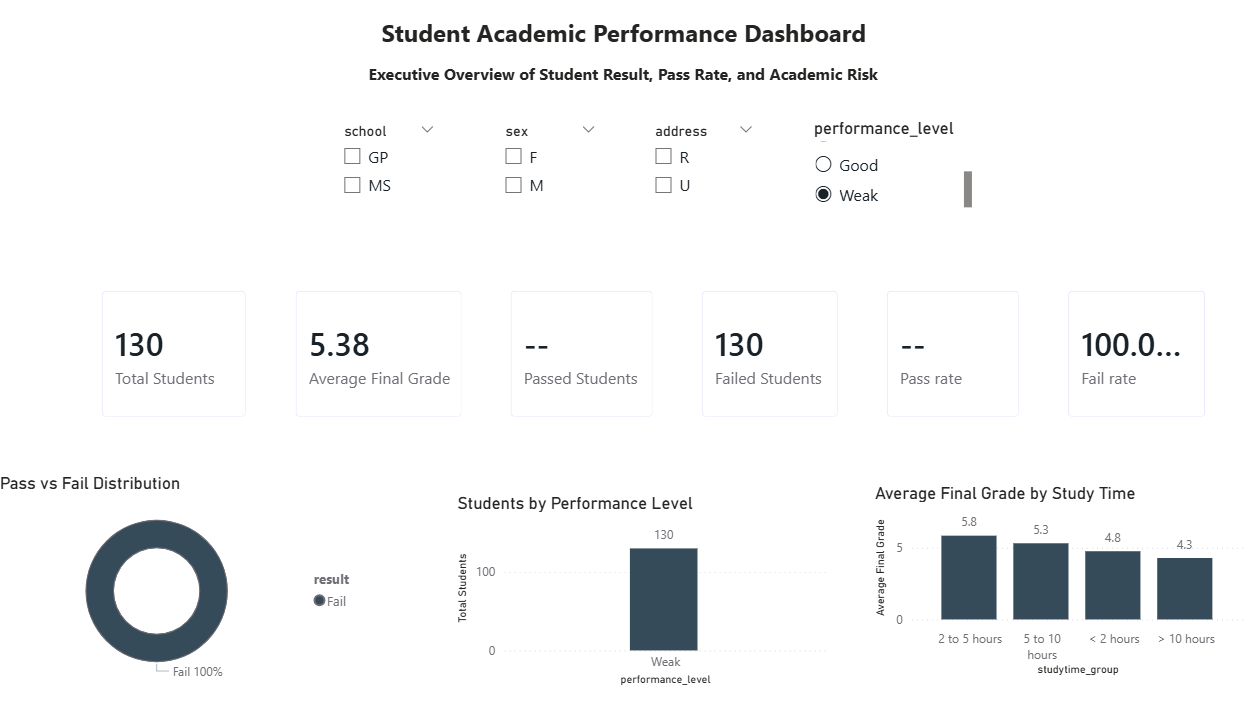

The page's visual inventory and layout, read from the dashboard file:
{"tool":"powerbi","page":{"name":"Executive Overview","canvas":[1280,720],"ordinal":0},"visuals":[{"type":"cardVisual","fields":{"Data":["vw_student_analysis.Total Students"]},"box":[90,280,178.8,160],"z":0,"group":"g1"},{"type":"cardVisual","fields":{"Data":["vw_student_analysis.Average Final Grade"]},"box":[283.8,280,200,160],"z":1000,"group":"g1"},{"type":"cardVisual","fields":{"Data":["vw_student_analysis.Passed Student"]},"box":[498.8,280,176.2,160],"z":2000,"group":"g1"},{"type":"cardVisual","fields":{"Data":["vw_student_analysis.Failed Student"]},"box":[690,280,170,160],"z":3000,"group":"g1"},{"type":"cardVisual","fields":{"Data":["vw_student_analysis.Pass rate"]},"box":[875,280,166.2,160],"z":4000,"group":"g1"},{"type":"cardVisual","fields":{"Data":["vw_student_analysis.Fail rate"]},"box":[1056.2,280,171.2,160],"z":5000,"group":"g1"},{"type":"textbox","box":[214.7,0,827.6,82],"z":6000},{"type":"textbox","box":[161.7,63.9,933.8,35],"z":7000},{"type":"donutChart","title":"Pass vs Fail Distribution","fields":{"Category":["vw_student_analysis.result"],"Y":["vw_student_analysis.Total Students"]},"box":[0,478.8,378.8,217.5],"z":8000},{"type":"columnChart","title":"Students by Performance Level","fields":{"Category":["vw_student_analysis.performance_level"],"Y":["vw_student_analysis.Total Students"]},"box":[457.5,498.8,378.8,197.5],"z":9000},{"type":"columnChart","title":"Average Final Grade by Study Time","fields":{"Category":["vw_student_analysis.studytime_group"],"Y":["vw_student_analysis.Average Final Grade"]},"box":[875,488.8,378.8,197.5],"z":10000},{"type":"slicer","fields":{"Values":["vw_student_analysis.school"]},"box":[336.2,123.8,115,95],"z":11000},{"type":"slicer","fields":{"Values":["vw_student_analysis.sex"]},"box":[497.5,123.8,115,95],"z":12000},{"type":"slicer","fields":{"Values":["vw_student_analysis.address"]},"box":[647.5,123.8,122.5,95],"z":13000},{"type":"listSlicer","fields":{"Values":["vw_student_analysis.performance_level"]},"box":[813.8,123.8,168.8,95],"z":14000},{"type":"group","id":"g1","title":"Groupe 1","box":[90,280,1137.5,160],"z":14001}]}

Visuals, with their boxes in screenshot pixels (x1, y1, x2, y2), scaled from the page's 1280x720 canvas onto the 1254x707 screenshot:
cardVisual - vw_student_analysis.Total Students: (88, 275, 263, 432)
cardVisual - vw_student_analysis.Average Final Grade: (278, 275, 474, 432)
cardVisual - vw_student_analysis.Passed Student: (489, 275, 661, 432)
cardVisual - vw_student_analysis.Failed Student: (676, 275, 843, 432)
cardVisual - vw_student_analysis.Pass rate: (857, 275, 1020, 432)
cardVisual - vw_student_analysis.Fail rate: (1035, 275, 1202, 432)
textbox: (210, 0, 1021, 81)
textbox: (158, 63, 1073, 97)
"Pass vs Fail Distribution" donutChart: (0, 470, 371, 684)
"Students by Performance Level" columnChart: (448, 490, 819, 684)
"Average Final Grade by Study Time" columnChart: (857, 480, 1228, 674)
slicer - vw_student_analysis.school: (329, 122, 442, 215)
slicer - vw_student_analysis.sex: (487, 122, 600, 215)
slicer - vw_student_analysis.address: (634, 122, 754, 215)
listSlicer - vw_student_analysis.performance_level: (797, 122, 963, 215)
"Groupe 1" group: (88, 275, 1203, 432)
